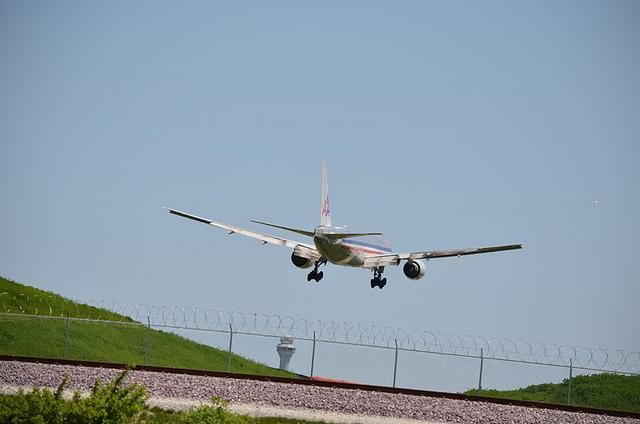airplane: (159, 159, 525, 290)
